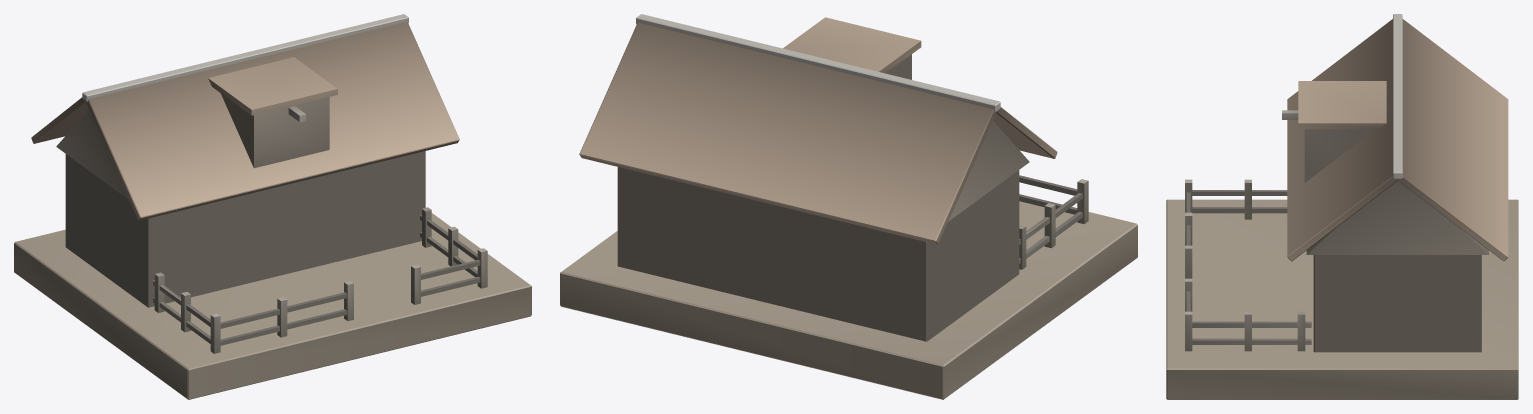
File: stable_l1_lod2.glb
3 views of the same model, side by side, from view 1: azimuth 30°, elevation 25°; view 2: azimuth 150°, elevation 25°; view 3: azimuth 270°, elevation 25° (orthographic). The views are drawn at different scales.
Visible parts, largest first — view 1: stable_l1_lod2; view 2: stable_l1_lod2; view 3: stable_l1_lod2.
Boxes of the visible parts, x1,y1,x2,y2 form: stable_l1_lod2: (14,14,531,399); stable_l1_lod2: (560,14,1137,399); stable_l1_lod2: (1166,14,1518,399).
Bounding box in the file's own units: 9.8 × 5.98 × 8.6.
